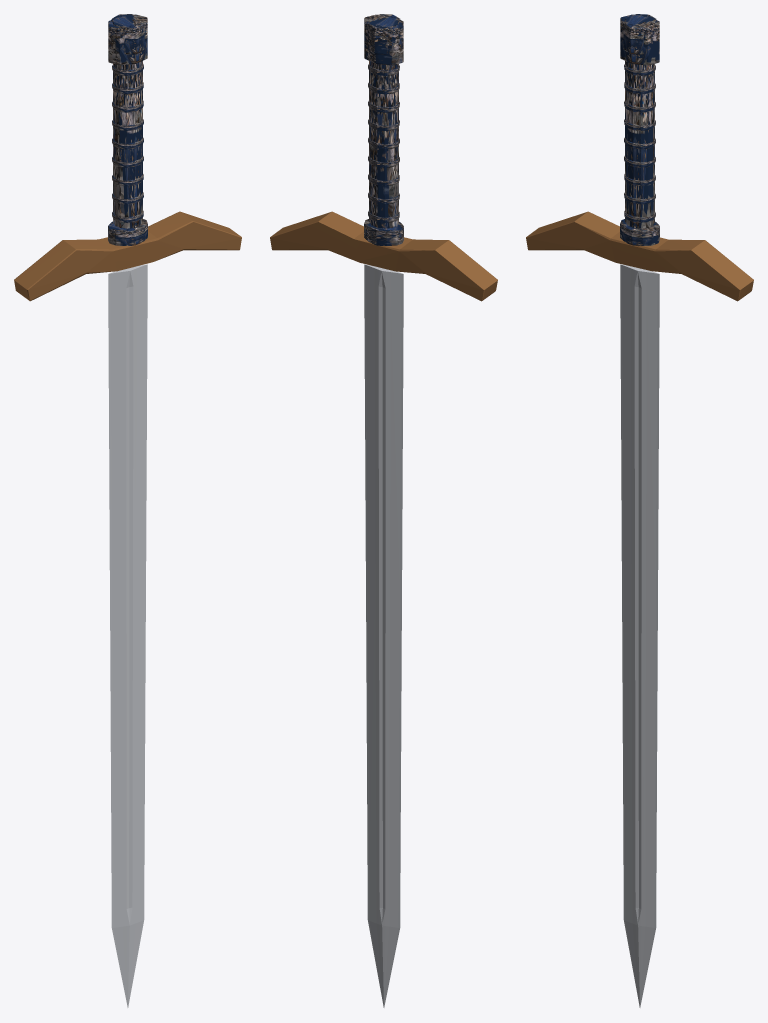
Rendered from ArrelSword.fbx.
The picture shows the model from 3 angles, left to right: view 1: azimuth 30°, elevation 25°; view 2: azimuth 150°, elevation 25°; view 3: azimuth 330°, elevation 25°; orthographic projection.
Visible parts, largest first — view 1: ArrelSwordDrawn; view 2: ArrelSwordDrawn; view 3: ArrelSwordDrawn.
Part boxes in pixels (box(x1,y1,x2,y2)): ArrelSwordDrawn: box(14, 14, 241, 1007); ArrelSwordDrawn: box(270, 14, 497, 1007); ArrelSwordDrawn: box(526, 14, 753, 1007).
Bounding box in the file's own units: 0.2391 × 0.0356 × 1.05.
